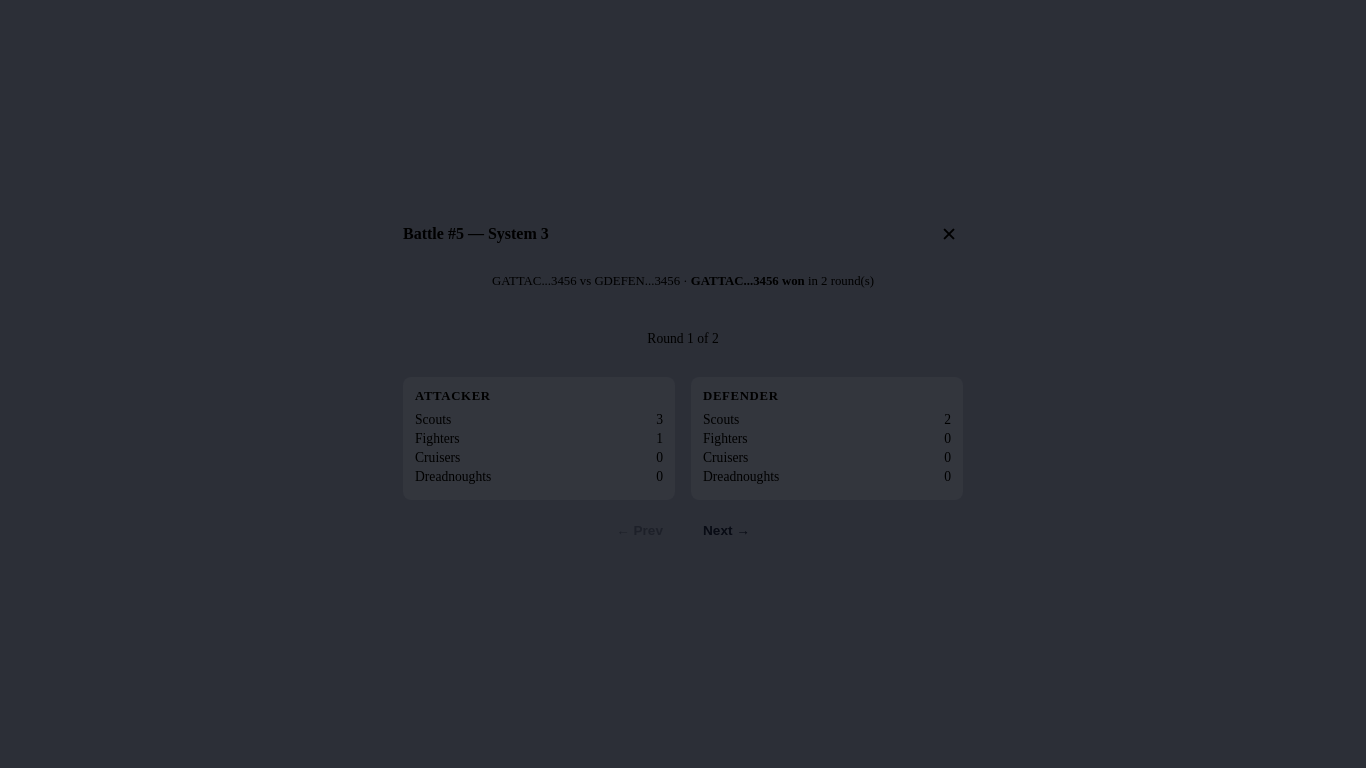
Test: BattleReplayViewer › goes back to the previous round when Prev is clicked
Click the button with aria-label "next round".
click(726, 530)  # box x1=687 y1=516 x2=766 y2=544
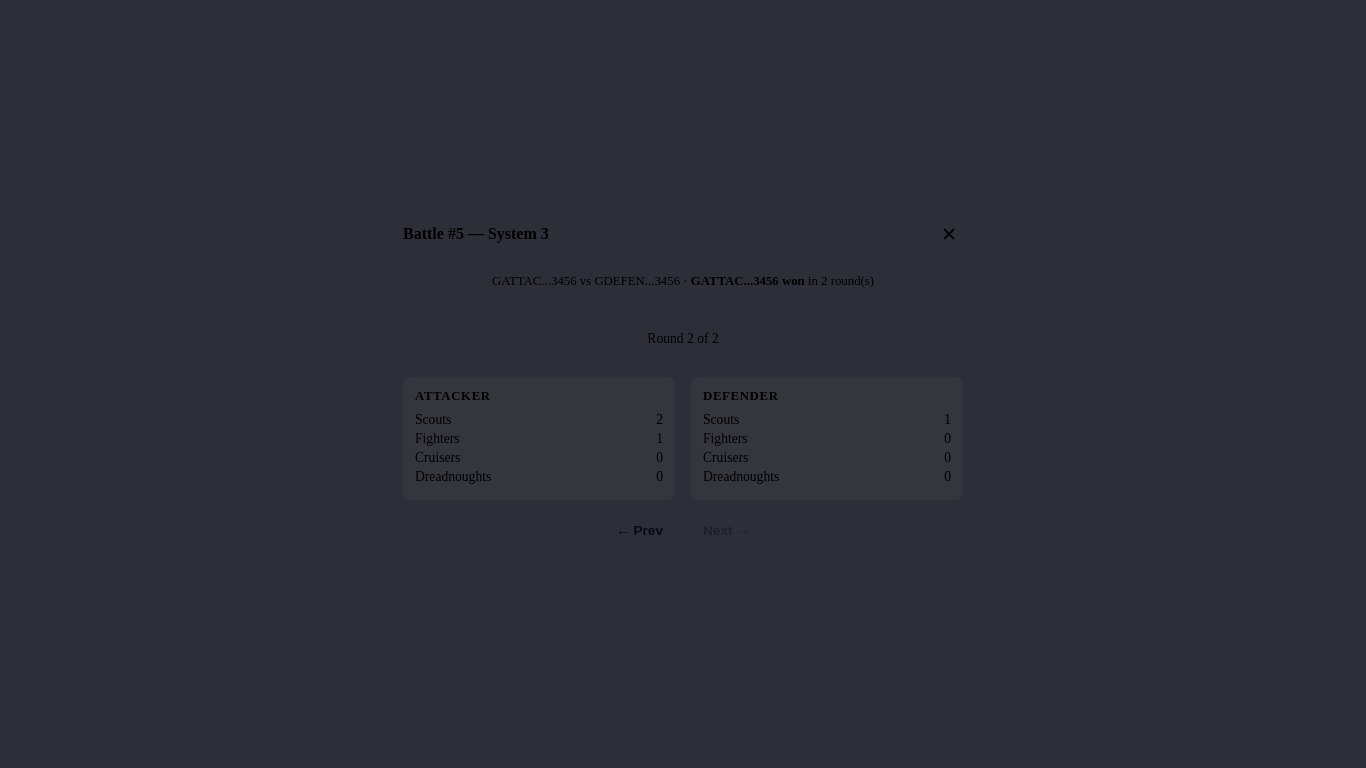
Click the button with aria-label "previous round".
click(640, 530)  # box x1=600 y1=516 x2=679 y2=544
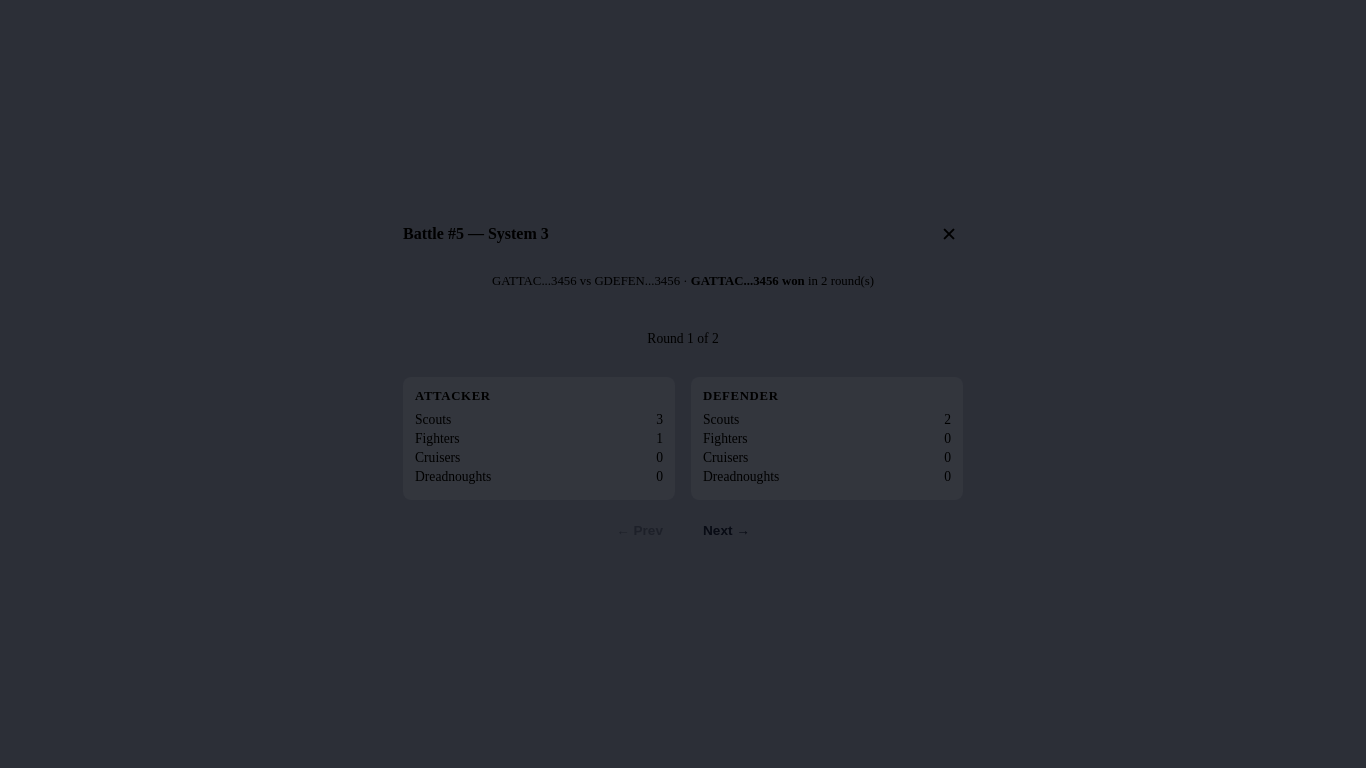
Result: the text "Round 1 of 2" is shown at x1=647 y1=331 x2=719 y2=346
